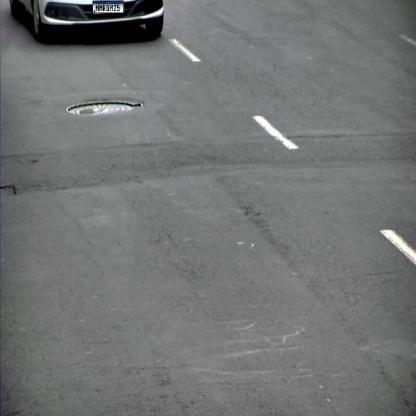PlacaM: (92, 1, 124, 13)
